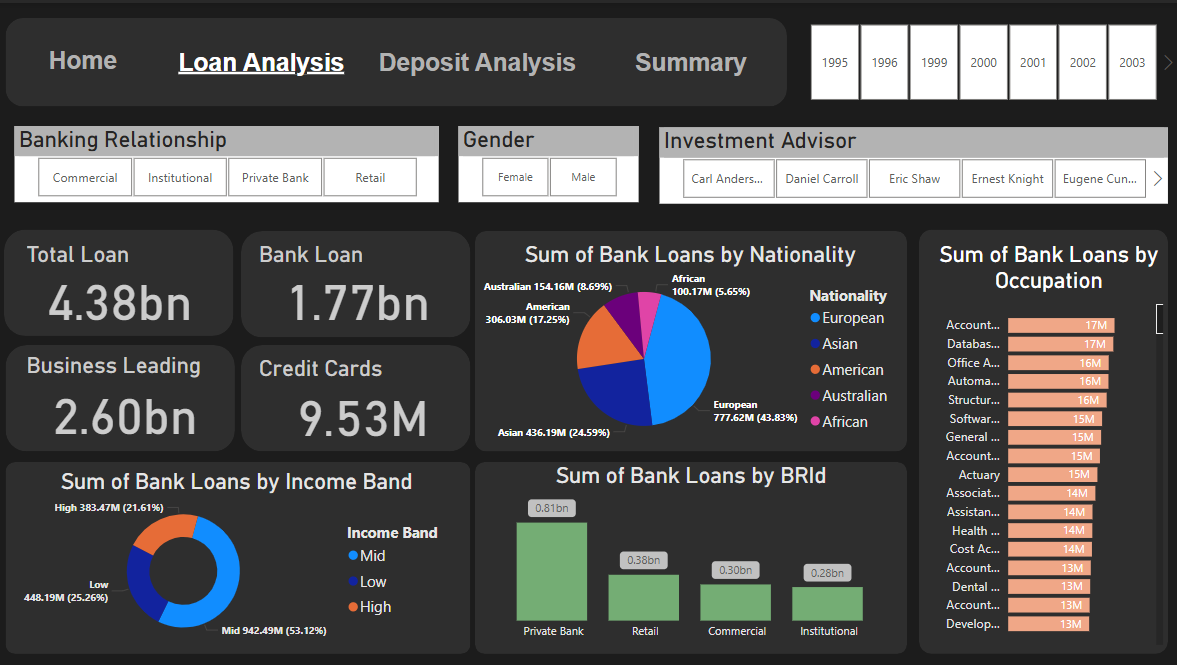

The page's visual inventory and layout, read from the dashboard file:
{"tool":"powerbi","page":{"name":"Loan Analysis","canvas":[1280,720],"ordinal":1},"visuals":[{"type":"shape","box":[8.1,16.3,847.4,96],"z":0},{"type":"textbox","box":[17.9,42.3,148,42.3],"z":1000},{"type":"textbox","box":[165.9,43.9,239.1,40.7],"z":2000},{"type":"textbox","box":[388.7,43.9,261.9,42.3],"z":3000},{"type":"textbox","box":[658.8,43.9,185.4,45.5],"z":4000},{"type":"shape","box":[998.7,245.6,270,460.3],"z":5000},{"type":"shape","box":[148,509.1,257,115.5],"z":6000},{"type":"shape","box":[8.1,497.7,504.2,208.2],"z":7000},{"type":"shape","box":[517.2,497.7,468.4,208.2],"z":8000},{"type":"shape","box":[517.2,247.2,468.4,239.1],"z":9000},{"type":"shape","box":[6.5,245.6,248.9,115.5],"z":10000},{"type":"shape","box":[263.5,247.2,248.9,115.5],"z":11000},{"type":"shape","box":[263.5,370.9,248.9,115.5],"z":12000},{"type":"shape","box":[8.1,370.9,248.9,115.5],"z":13000},{"type":"slicer","fields":{"Values":["Banking_Clients.year of joining"]},"box":[855.6,16.3,424.5,96],"z":14000},{"type":"slicer","title":"Banking Relationship","fields":{"Values":["Banking_Clients.BRId"]},"box":[17.9,133.4,460.3,83],"z":15000},{"type":"slicer","title":"Gender","fields":{"Values":["Banking_Clients.GenderId"]},"box":[499.3,133.4,195.2,83],"z":16000},{"type":"slicer","title":"Investment Advisor","fields":{"Values":["Investment Advisor.Investment Advisor"]},"box":[717.3,135,551.4,83],"z":17000},{"type":"card","title":"Total Loan ","fields":{"Values":["Banking_Clients.total loan"]},"box":[26,258.6,211.5,91.1],"z":18000},{"type":"card","title":"Bank Loan","fields":{"Values":["Sum(Banking_Clients.Bank Loans)"]},"box":[278.1,258.6,222.8,91.1],"z":19000},{"type":"card","title":"Business Leading","fields":{"Values":["Sum(Banking_Clients.Business Lending)"]},"box":[26,379,222.8,97.6],"z":20000},{"type":"card","title":"Credit Cards","fields":{"Values":["Sum(Banking_Clients.Credit Card Balance)"]},"box":[278.1,382.2,234.2,94.3],"z":21000},{"type":"donutChart","fields":{"Category":["Banking_Clients.Income Band"],"Y":["Sum(Banking_Clients.Bank Loans)"]},"box":[17.9,504.2,481.5,195.2],"z":22000},{"type":"pieChart","fields":{"Category":["Banking_Clients.Nationality"],"Y":["Sum(Banking_Clients.Bank Loans)"]},"box":[515,258.3,470,226.7],"z":23000},{"type":"lineClusteredColumnComboChart","fields":{"Category":["Banking_Clients.BRId"],"Y":["Sum(Banking_Clients.Bank Loans)"]},"box":[516.7,498.3,468.3,201.7],"z":24000},{"type":"clusteredBarChart","fields":{"Category":["Banking_Clients.Occupation"],"Y":["Sum(Banking_Clients.Bank Loans)"]},"box":[1010.1,258.6,258.6,442.4],"z":25000},{"type":"actionButton","box":[405,43.9,245.6,52],"z":26000},{"type":"actionButton","box":[670.1,39,161,45.5],"z":27000},{"type":"actionButton","box":[27.7,39,110.6,45.5],"z":28000},{"type":"actionButton","box":[670.1,39,161,45.5],"z":29000}]}

Visuals, with their boxes in screenshot pixels (x1, y1, x2, y2), scaled from the page's 1280x720 canvas onto the 1177x665 screenshot:
shape: left=7, top=15, right=787, bottom=104
textbox: left=16, top=39, right=153, bottom=78
textbox: left=153, top=41, right=372, bottom=78
textbox: left=357, top=41, right=598, bottom=80
textbox: left=606, top=41, right=776, bottom=83
shape: left=918, top=227, right=1167, bottom=652
shape: left=136, top=470, right=372, bottom=577
shape: left=7, top=460, right=471, bottom=652
shape: left=476, top=460, right=906, bottom=652
shape: left=476, top=228, right=906, bottom=449
shape: left=6, top=227, right=235, bottom=334
shape: left=242, top=228, right=471, bottom=335
shape: left=242, top=343, right=471, bottom=449
shape: left=7, top=343, right=236, bottom=449
slicer - Banking_Clients.year of joining: left=787, top=15, right=1176, bottom=104
"Banking Relationship" slicer: left=16, top=123, right=440, bottom=200
"Gender" slicer: left=459, top=123, right=639, bottom=200
"Investment Advisor" slicer: left=660, top=125, right=1167, bottom=201
"Total Loan " card: left=24, top=239, right=218, bottom=323
"Bank Loan" card: left=256, top=239, right=461, bottom=323
"Business Leading" card: left=24, top=350, right=229, bottom=440
"Credit Cards" card: left=256, top=353, right=471, bottom=440
donutChart - Banking_Clients.Income Band x Sum(Banking_Clients.Bank Loans): left=16, top=466, right=459, bottom=646
pieChart - Banking_Clients.Nationality x Sum(Banking_Clients.Bank Loans): left=474, top=239, right=906, bottom=448
lineClusteredColumnComboChart - Banking_Clients.BRId x Sum(Banking_Clients.Bank Loans): left=475, top=460, right=906, bottom=647
clusteredBarChart - Banking_Clients.Occupation x Sum(Banking_Clients.Bank Loans): left=929, top=239, right=1167, bottom=647
actionButton: left=372, top=41, right=598, bottom=89
actionButton: left=616, top=36, right=764, bottom=78
actionButton: left=25, top=36, right=127, bottom=78
actionButton: left=616, top=36, right=764, bottom=78
